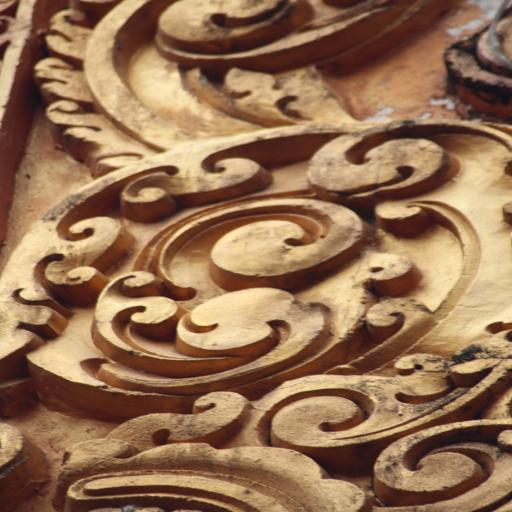la: (0, 122, 466, 385), (69, 348, 512, 512), (30, 0, 324, 153)
